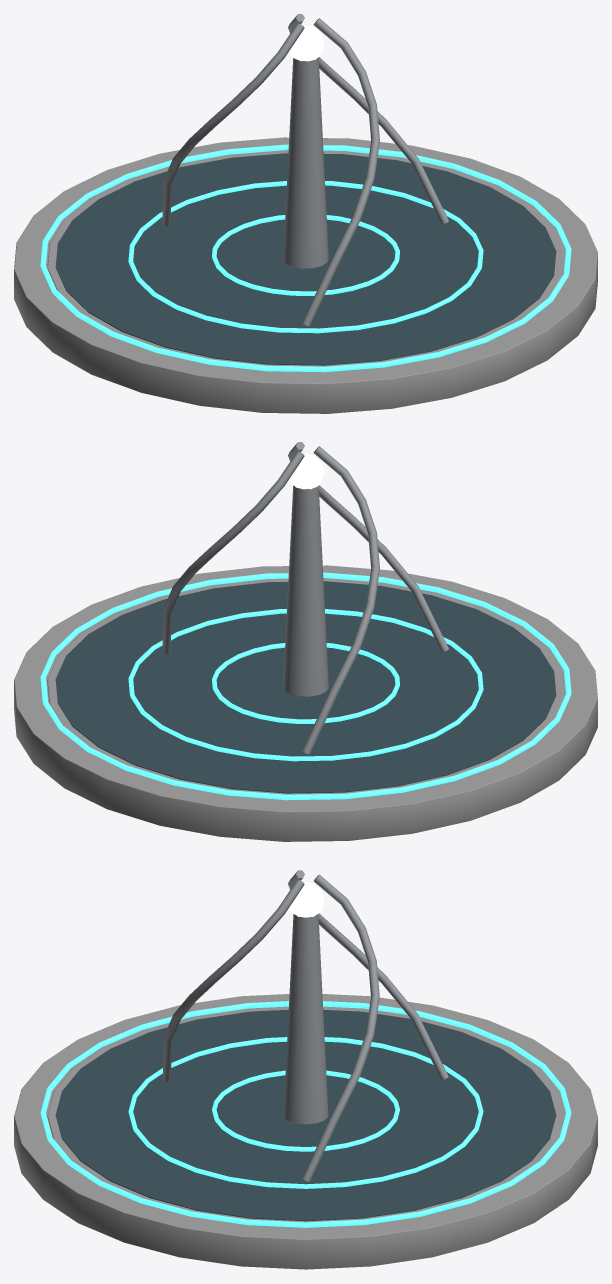
File: prop_fountain_plaza.glb
3 renders of one model, top to bottom at view 1: azimuth 30°, elevation 25°; view 2: azimuth 150°, elevation 25°; view 3: azimuth 270°, elevation 25°, orthographic.
Parts seen in each view (by area): view 1: fountain_water, fountain_basin, fountain_steel, fountain_led, fountain_top; view 2: fountain_water, fountain_basin, fountain_steel, fountain_led, fountain_top; view 3: fountain_water, fountain_basin, fountain_steel, fountain_led, fountain_top.
Part boxes in pixels (bbox=[...]): fountain_water: bbox=[55, 153, 556, 365]; fountain_basin: bbox=[14, 137, 597, 413]; fountain_steel: bbox=[162, 14, 448, 326]; fountain_led: bbox=[40, 144, 571, 372]; fountain_top: bbox=[289, 25, 324, 61]; fountain_water: bbox=[55, 581, 556, 793]; fountain_basin: bbox=[14, 565, 597, 841]; fountain_steel: bbox=[162, 442, 448, 754]; fountain_led: bbox=[40, 572, 571, 800]; fountain_top: bbox=[289, 453, 324, 489]; fountain_water: bbox=[55, 1009, 556, 1221]; fountain_basin: bbox=[14, 994, 597, 1269]; fountain_steel: bbox=[163, 870, 448, 1182]; fountain_led: bbox=[40, 1001, 571, 1227]; fountain_top: bbox=[289, 882, 323, 917].
Size of the model in its own units: 14 by 7.18 by 14.
